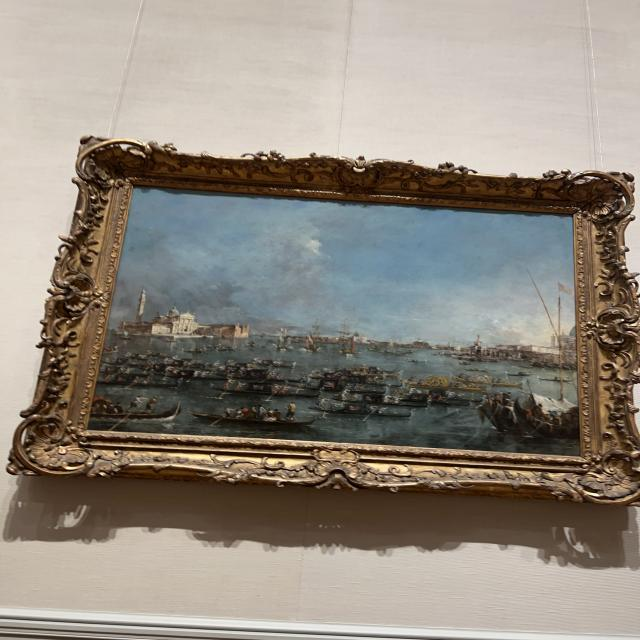ships: (103, 194, 567, 449)
